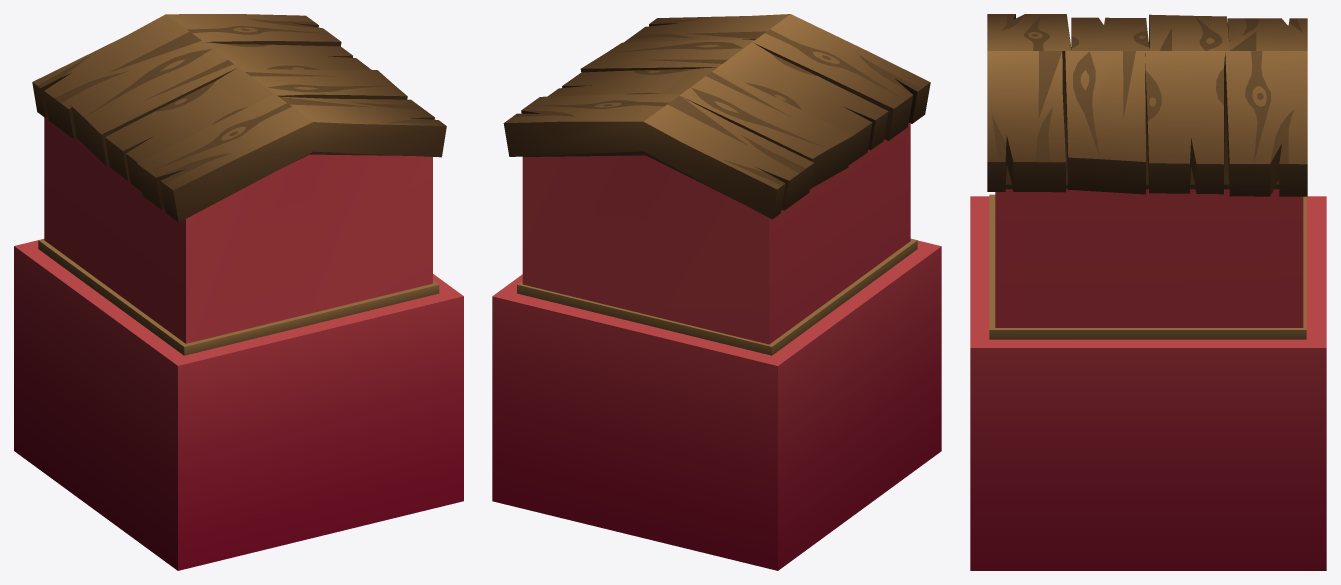
The model's file is Building_Main_07A.fbx.
The picture shows the model from 3 angles, left to right: view 1: azimuth 30°, elevation 25°; view 2: azimuth 150°, elevation 25°; view 3: azimuth 270°, elevation 25°; orthographic projection. The views are drawn at different scales.
Visible parts, largest first — view 1: Building_Main_07A; view 2: Building_Main_07A; view 3: Building_Main_07A.
Boxes of the visible parts, x1=… form: Building_Main_07A: x1=14, y1=14, x2=463, y2=570; Building_Main_07A: x1=492, y1=14, x2=941, y2=570; Building_Main_07A: x1=970, y1=14, x2=1326, y2=570.
Bounding box in the file's own units: 568 × 775 × 564.
2 materials, 2 textured.
